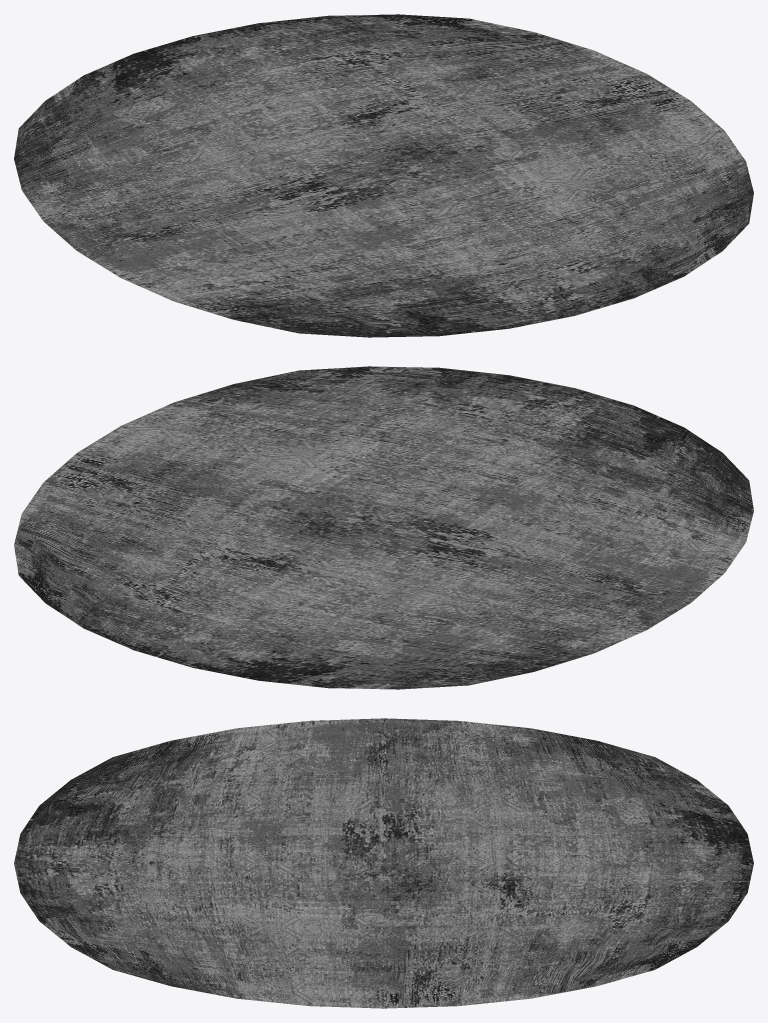
The model's file is hali_yuvarlak.glb.
The picture shows the model from 3 angles, top to bottom: view 1: azimuth 30°, elevation 25°; view 2: azimuth 150°, elevation 25°; view 3: azimuth 270°, elevation 25°; orthographic projection. The views are drawn at different scales.
Visible parts, largest first — view 1: Plane.006_Material.006_0; view 2: Plane.006_Material.006_0; view 3: Plane.006_Material.006_0.
Boxes of the visible parts, left/top/right/bottom form: Plane.006_Material.006_0: left=14, top=14, right=753, bottom=337; Plane.006_Material.006_0: left=14, top=366, right=753, bottom=689; Plane.006_Material.006_0: left=14, top=718, right=753, bottom=1008.
Bounding box in the file's own units: 2.81 × 9.16e-07 × 3.02.
1 material, 1 textured.
